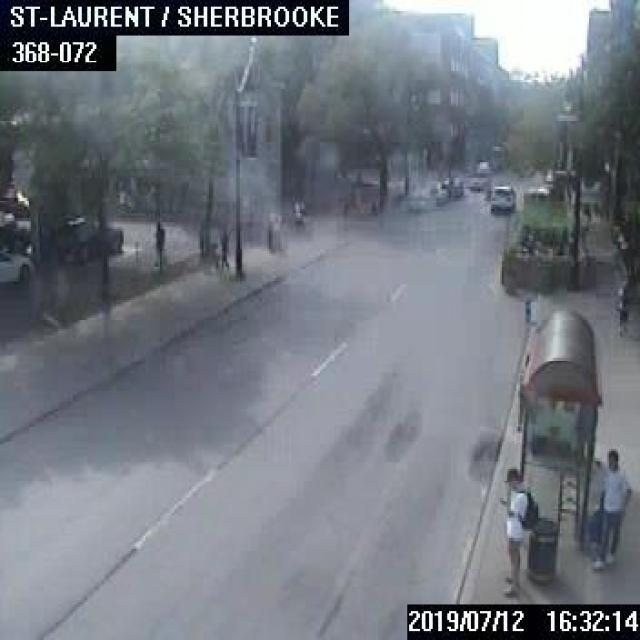pedestrian: (498, 466, 536, 596), (593, 446, 631, 566), (615, 274, 629, 334), (217, 231, 229, 273), (153, 220, 164, 263), (291, 194, 302, 228), (264, 213, 274, 249)
vehicle: (52, 216, 122, 258), (0, 250, 35, 283), (489, 182, 515, 209), (407, 185, 434, 211), (426, 179, 447, 204), (522, 184, 548, 203), (442, 176, 463, 196)
